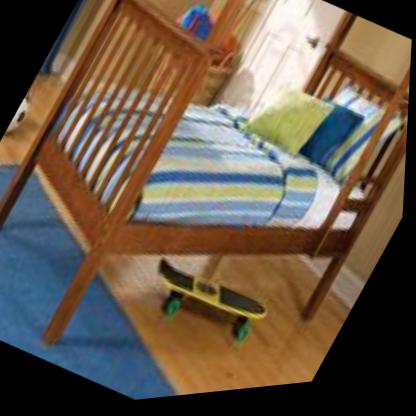Bed: (0, 0, 406, 343)
